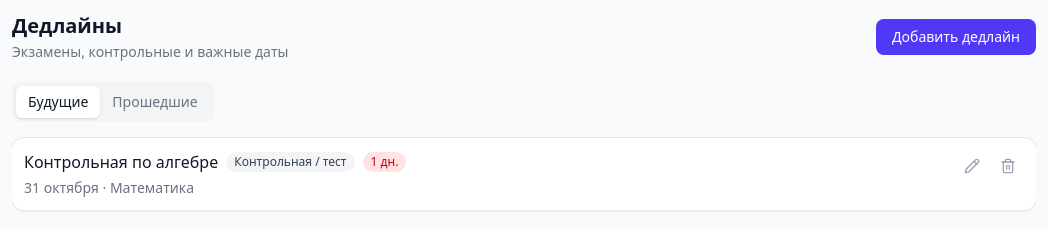
Test case: DeadlinesPage › shows past deadlines on the past tab
Click the button "Прошедшие".
click(155, 102)  # box 100,86 -> 210,118
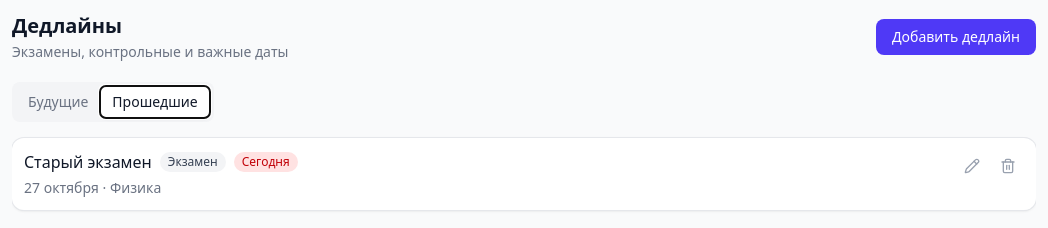
Now the text "Старый экзамен" is shown, box 24,150 -> 152,174
